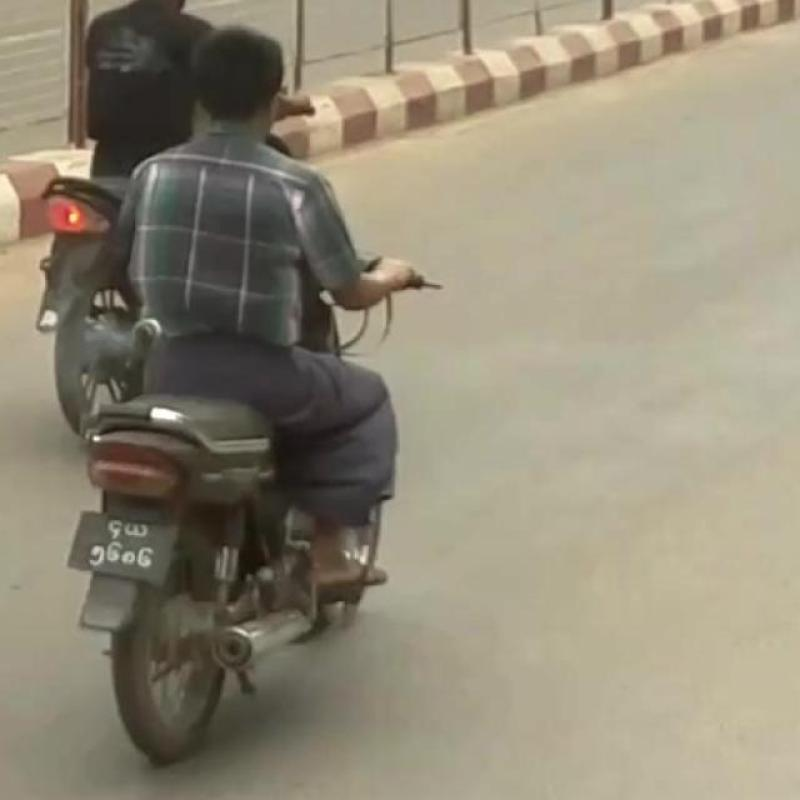nohelmet: (175, 4, 339, 158)
